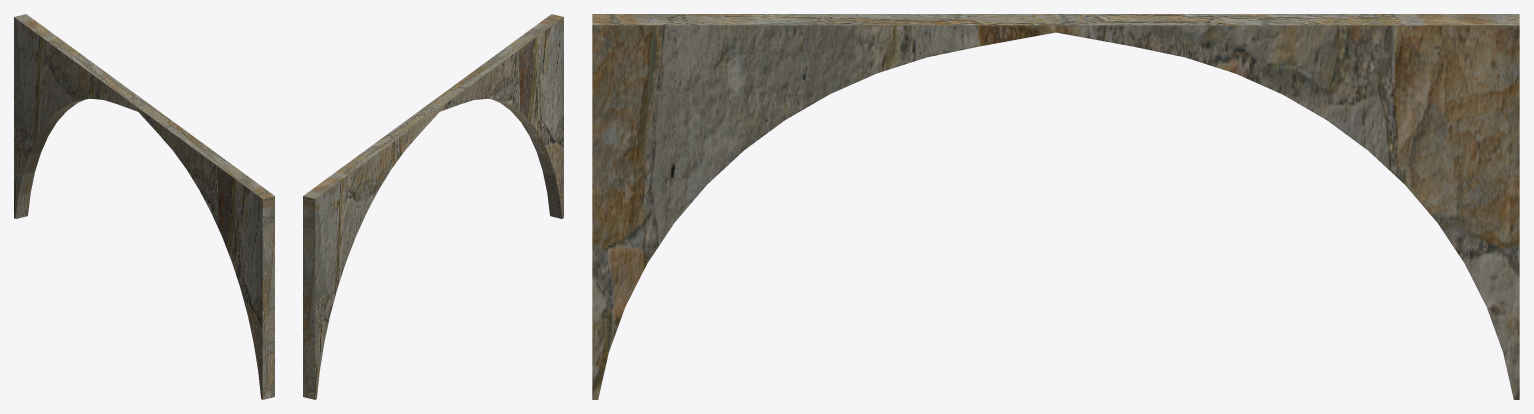
The model's file is Bogenwand.fbx.
3 renders of one model, left to right at view 1: azimuth 30°, elevation 25°; view 2: azimuth 150°, elevation 25°; view 3: azimuth 270°, elevation 25°, orthographic. The views are drawn at different scales.
Visible parts, largest first — view 1: Cube; view 2: Cube; view 3: Cube.
Part boxes in pixels (x1,y1,x2,y2): Cube: [14, 14, 274, 399]; Cube: [303, 14, 563, 399]; Cube: [592, 14, 1519, 399].
Bounding box in the file's own units: 40 × 624 × 1400.
Materials: 1 (1 with a texture image).
